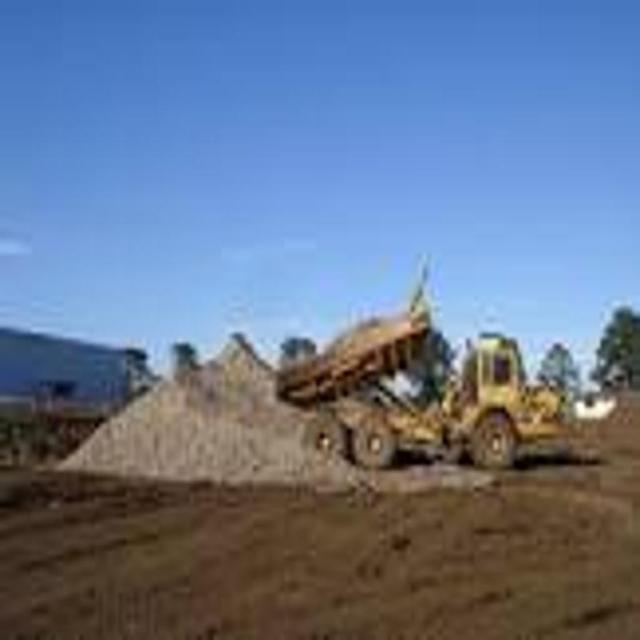dump_truck: (275, 244, 578, 488)
